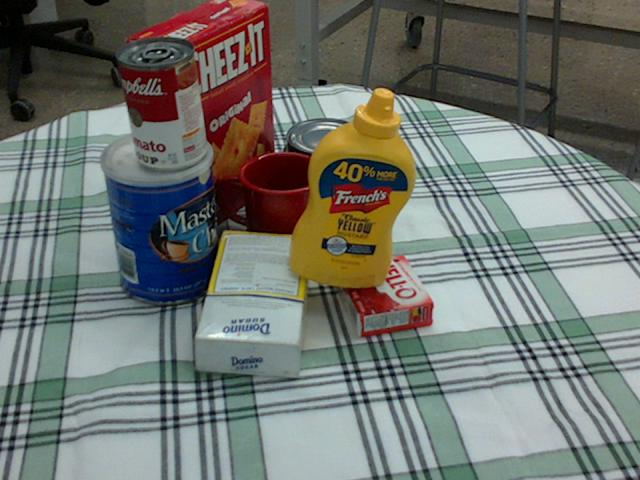cracker_box: (125, 0, 274, 237)
gelatin_box: (334, 254, 432, 337)
master_chef_can: (98, 129, 221, 305)
mug: (217, 149, 324, 253)
mustard_bottle: (289, 87, 415, 287)
potted_meat_can: (273, 135, 364, 215)
sugar_box: (196, 229, 312, 376)
tomato_soup_can: (118, 36, 206, 169)
tuna_fish_can: (285, 118, 361, 178)
